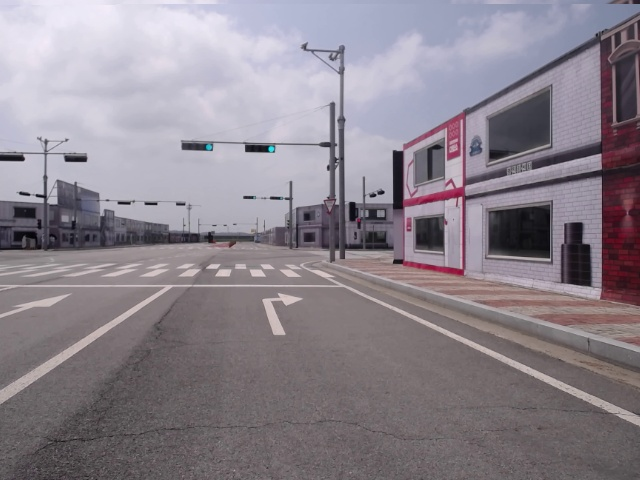straight_green_4: (244, 142, 276, 154), (182, 142, 213, 151), (243, 195, 256, 200), (269, 196, 284, 200)
